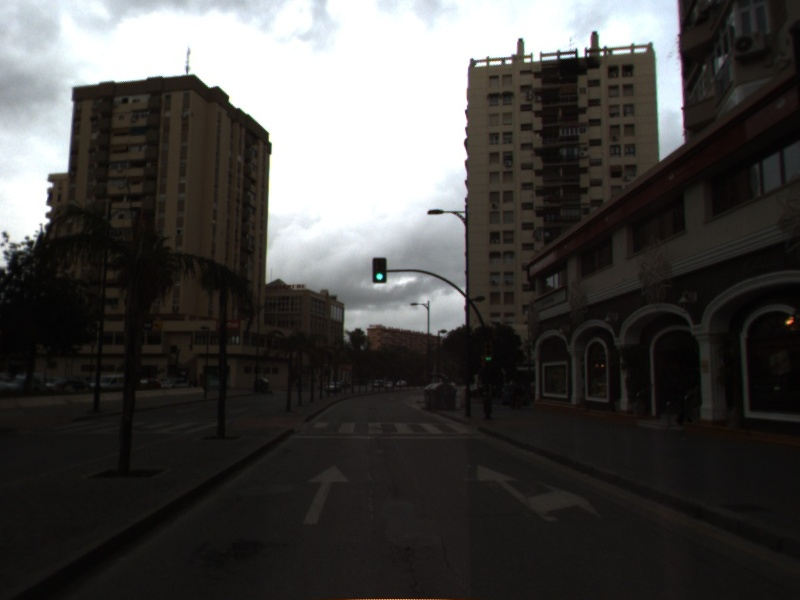STRAIGHT: (300, 463, 352, 527)
STRAIGHT_RIGHT: (474, 462, 604, 524)
